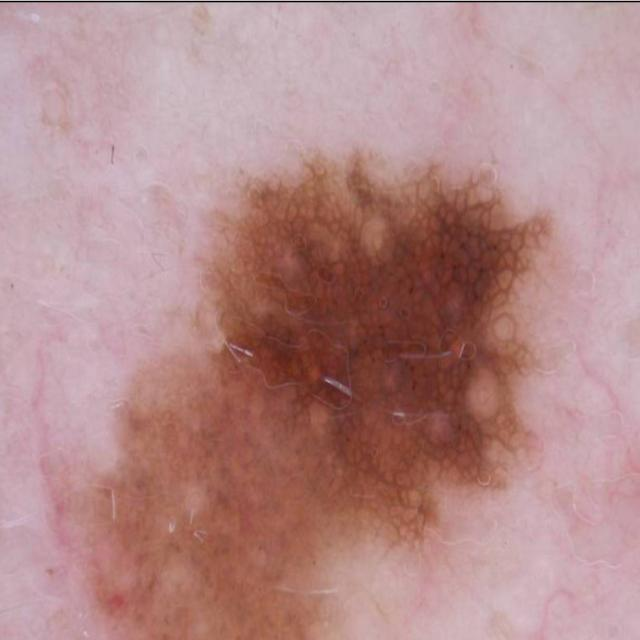Melanoma: (12, 100, 553, 640)
